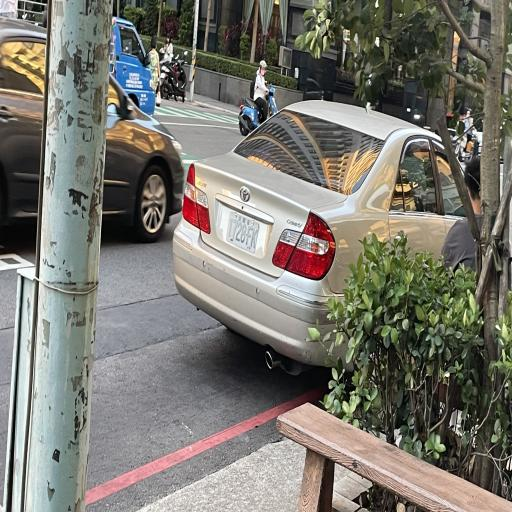MIU: (226, 287, 365, 458)
car: (166, 55, 497, 388), (0, 9, 187, 250)
redline: (80, 378, 336, 504)
